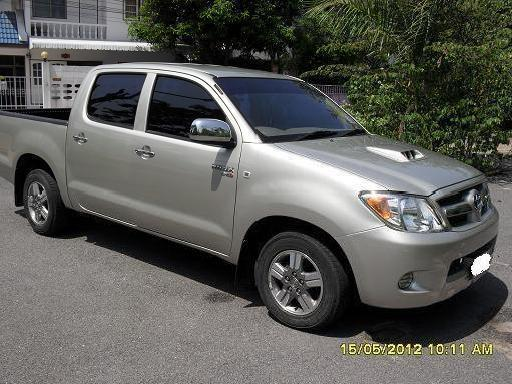pickup: (1, 59, 503, 330)
